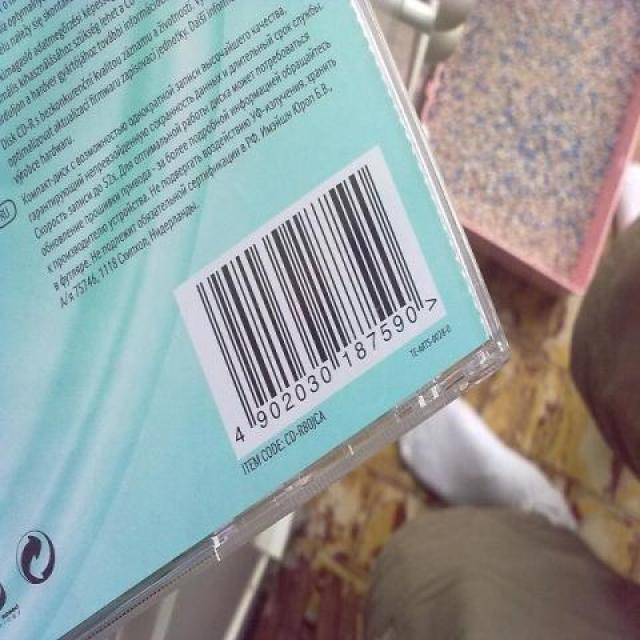Barcode: (171, 142, 445, 462)
